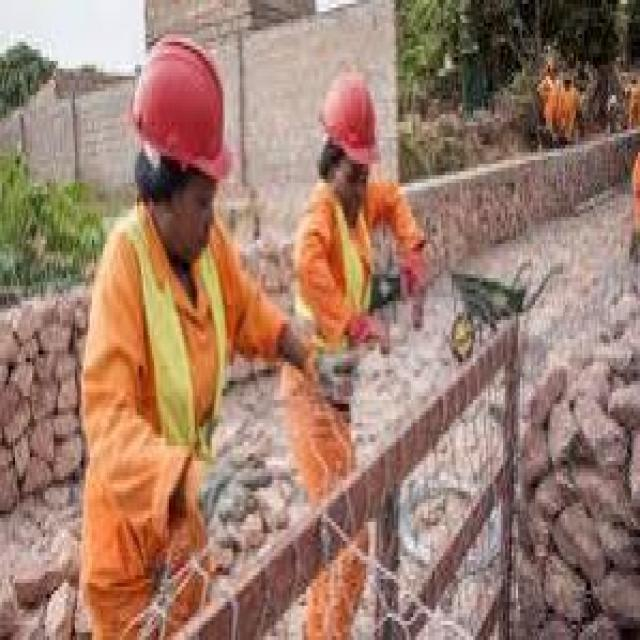Reflective-Jacket: (77, 210, 255, 499), (285, 175, 426, 377)
Safety-Helmet: (114, 27, 248, 202), (308, 53, 392, 183)
